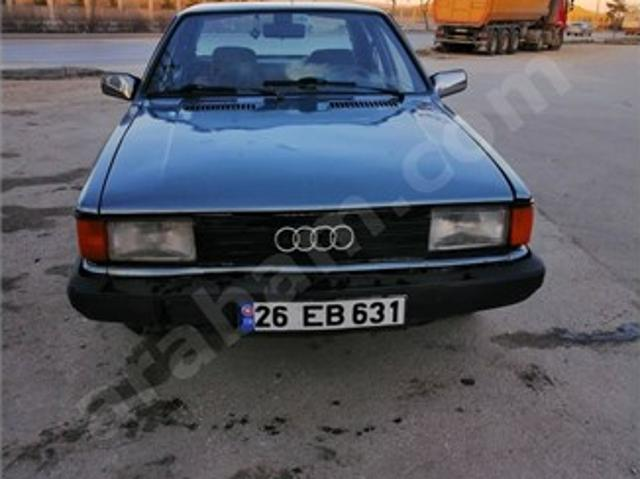audi: (271, 221, 359, 257)
